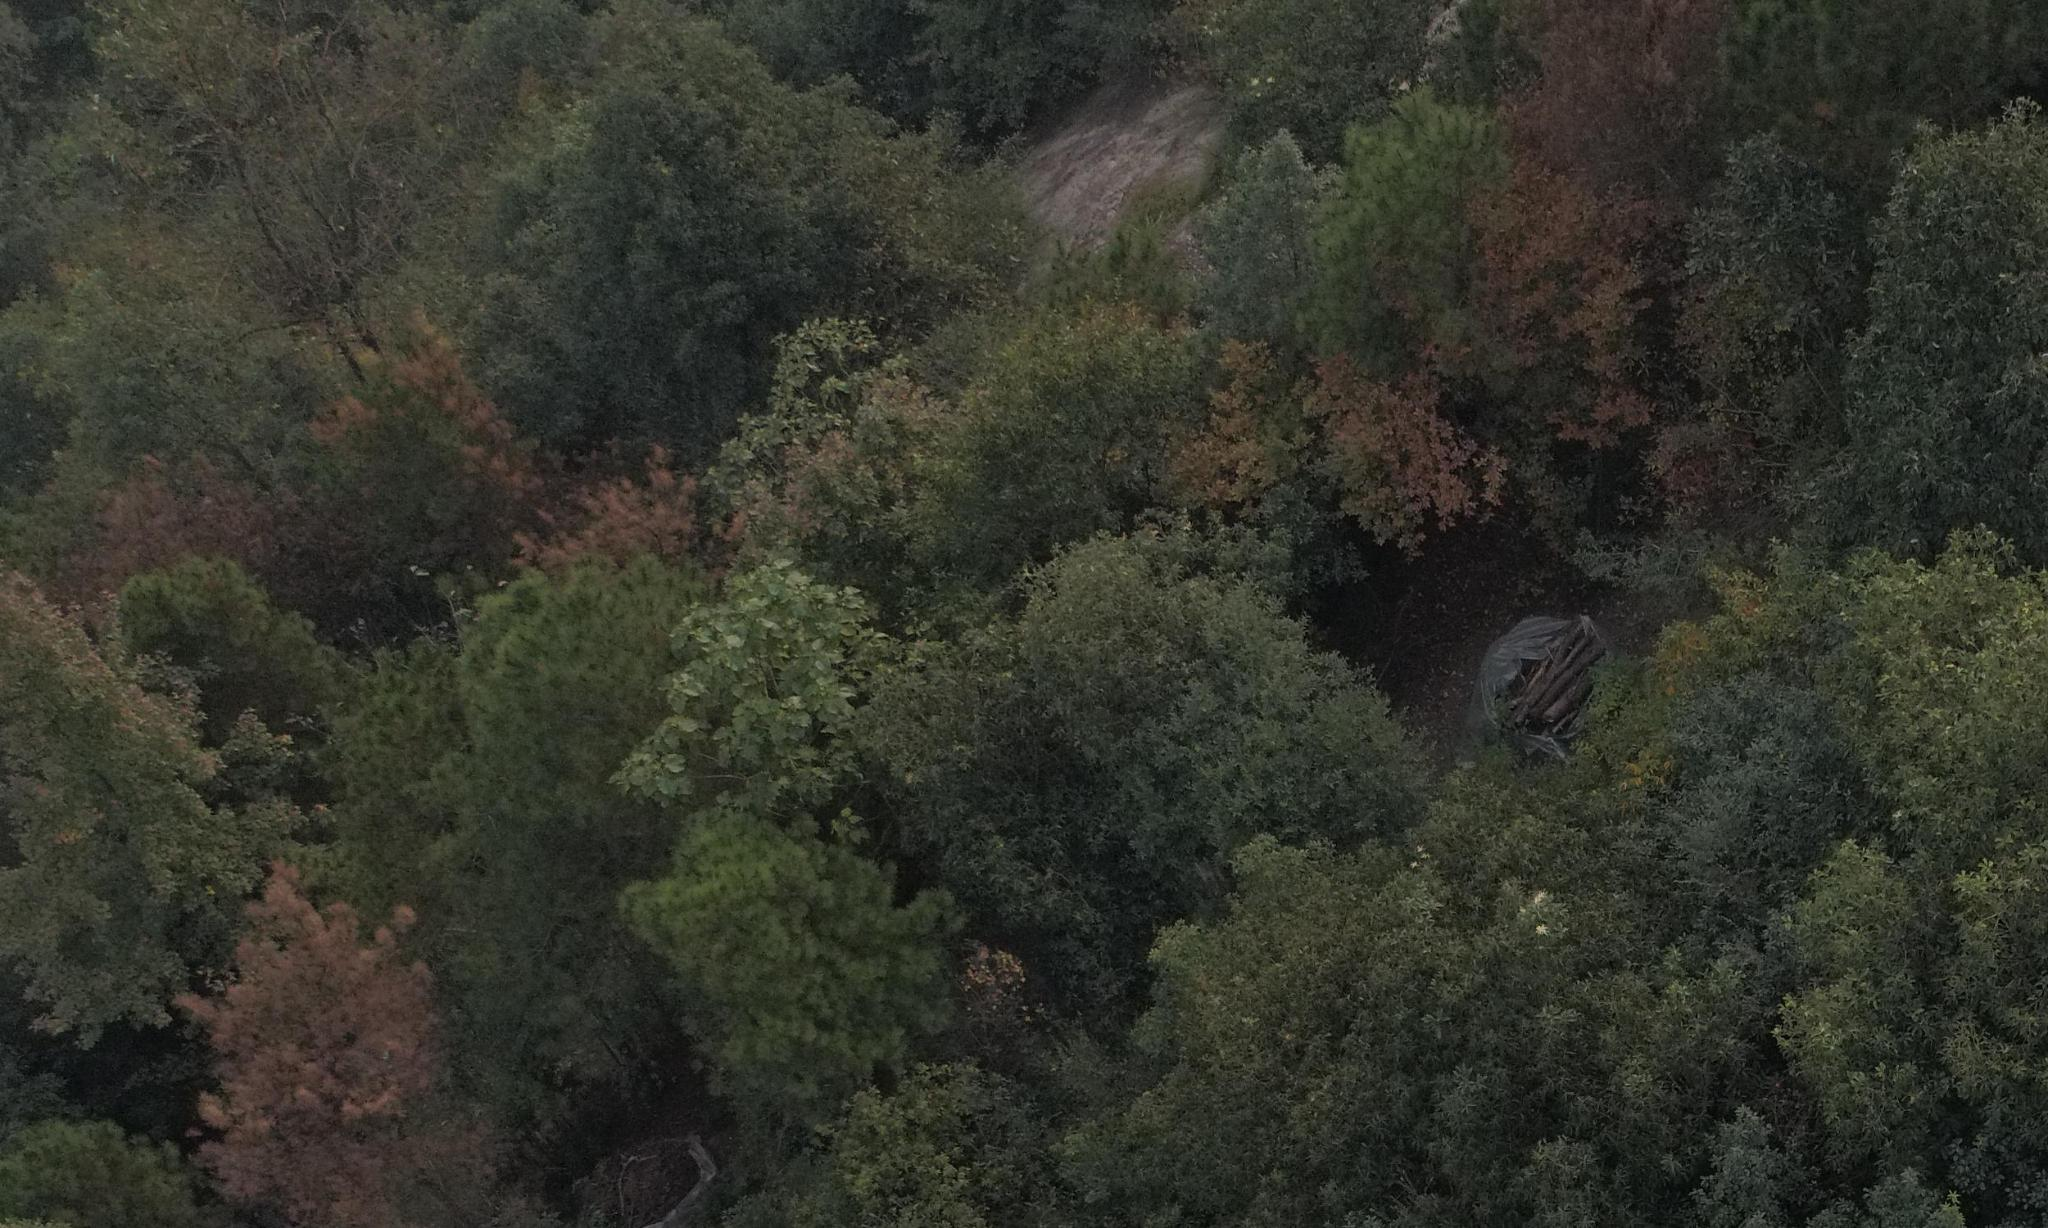heavy: (159, 864, 449, 1208), (517, 477, 710, 563)
light: (307, 291, 525, 452)
